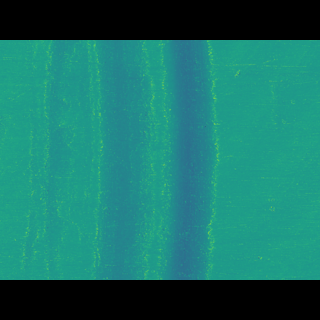Loch: (21, 70, 220, 250)
